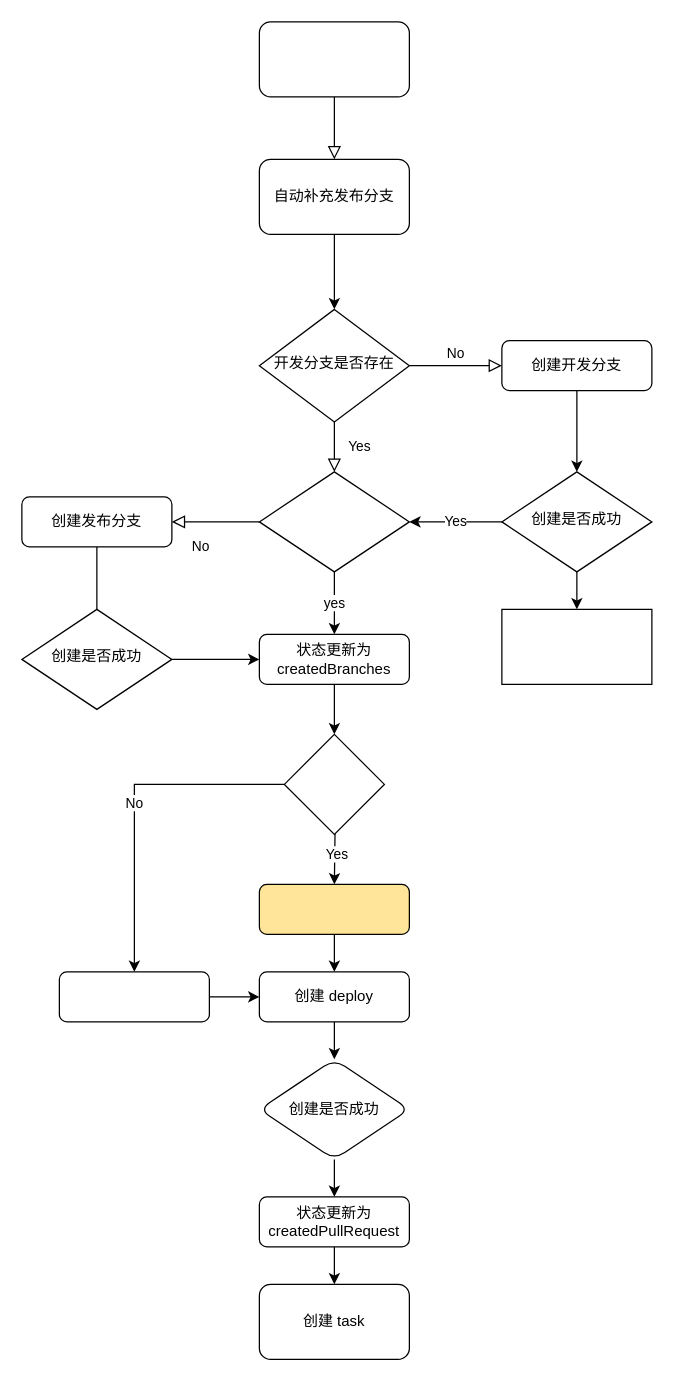
The diagram is 674 pixels wide and 1381 high, and some of its shapes have lost their labels. Each missing label, with the box of its shape:
PR 是否存在: (283, 733, 384, 834)
关联 PR: (258, 883, 409, 934)
创建 PR: (58, 971, 209, 1022)
发布分支是否存在: (258, 471, 409, 572)
选择项目类型， 填充开发分支: (258, 21, 409, 97)
